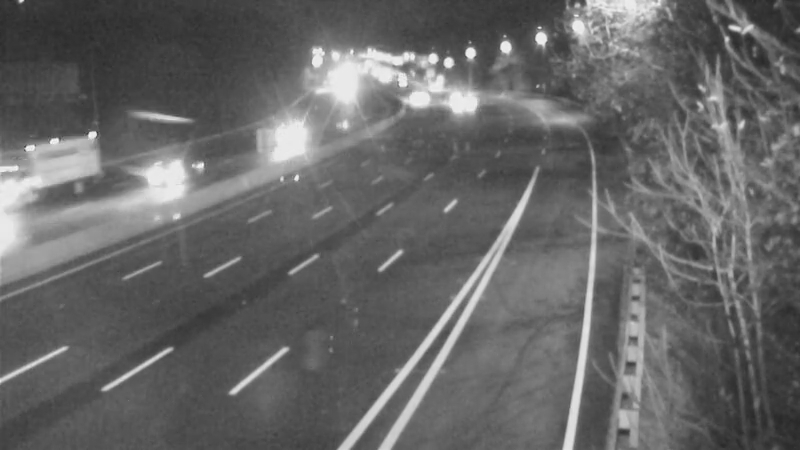vehicle: (124, 138, 204, 218), (1, 131, 80, 211), (410, 61, 460, 111), (389, 77, 439, 127), (431, 82, 481, 132), (262, 110, 312, 160), (325, 64, 375, 114)
